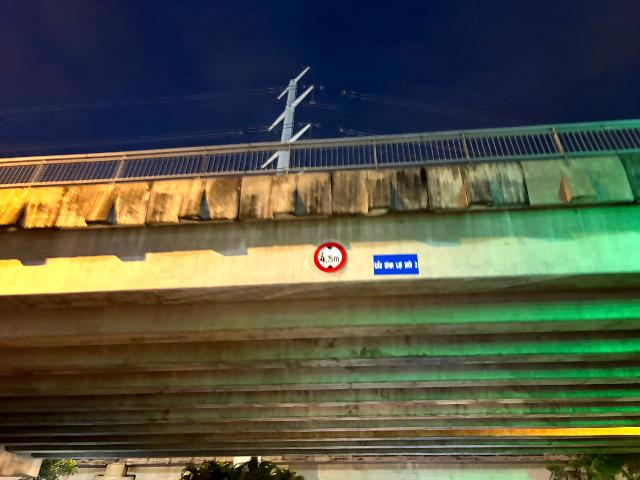han-che-chieu-cao: (314, 243, 346, 271)
